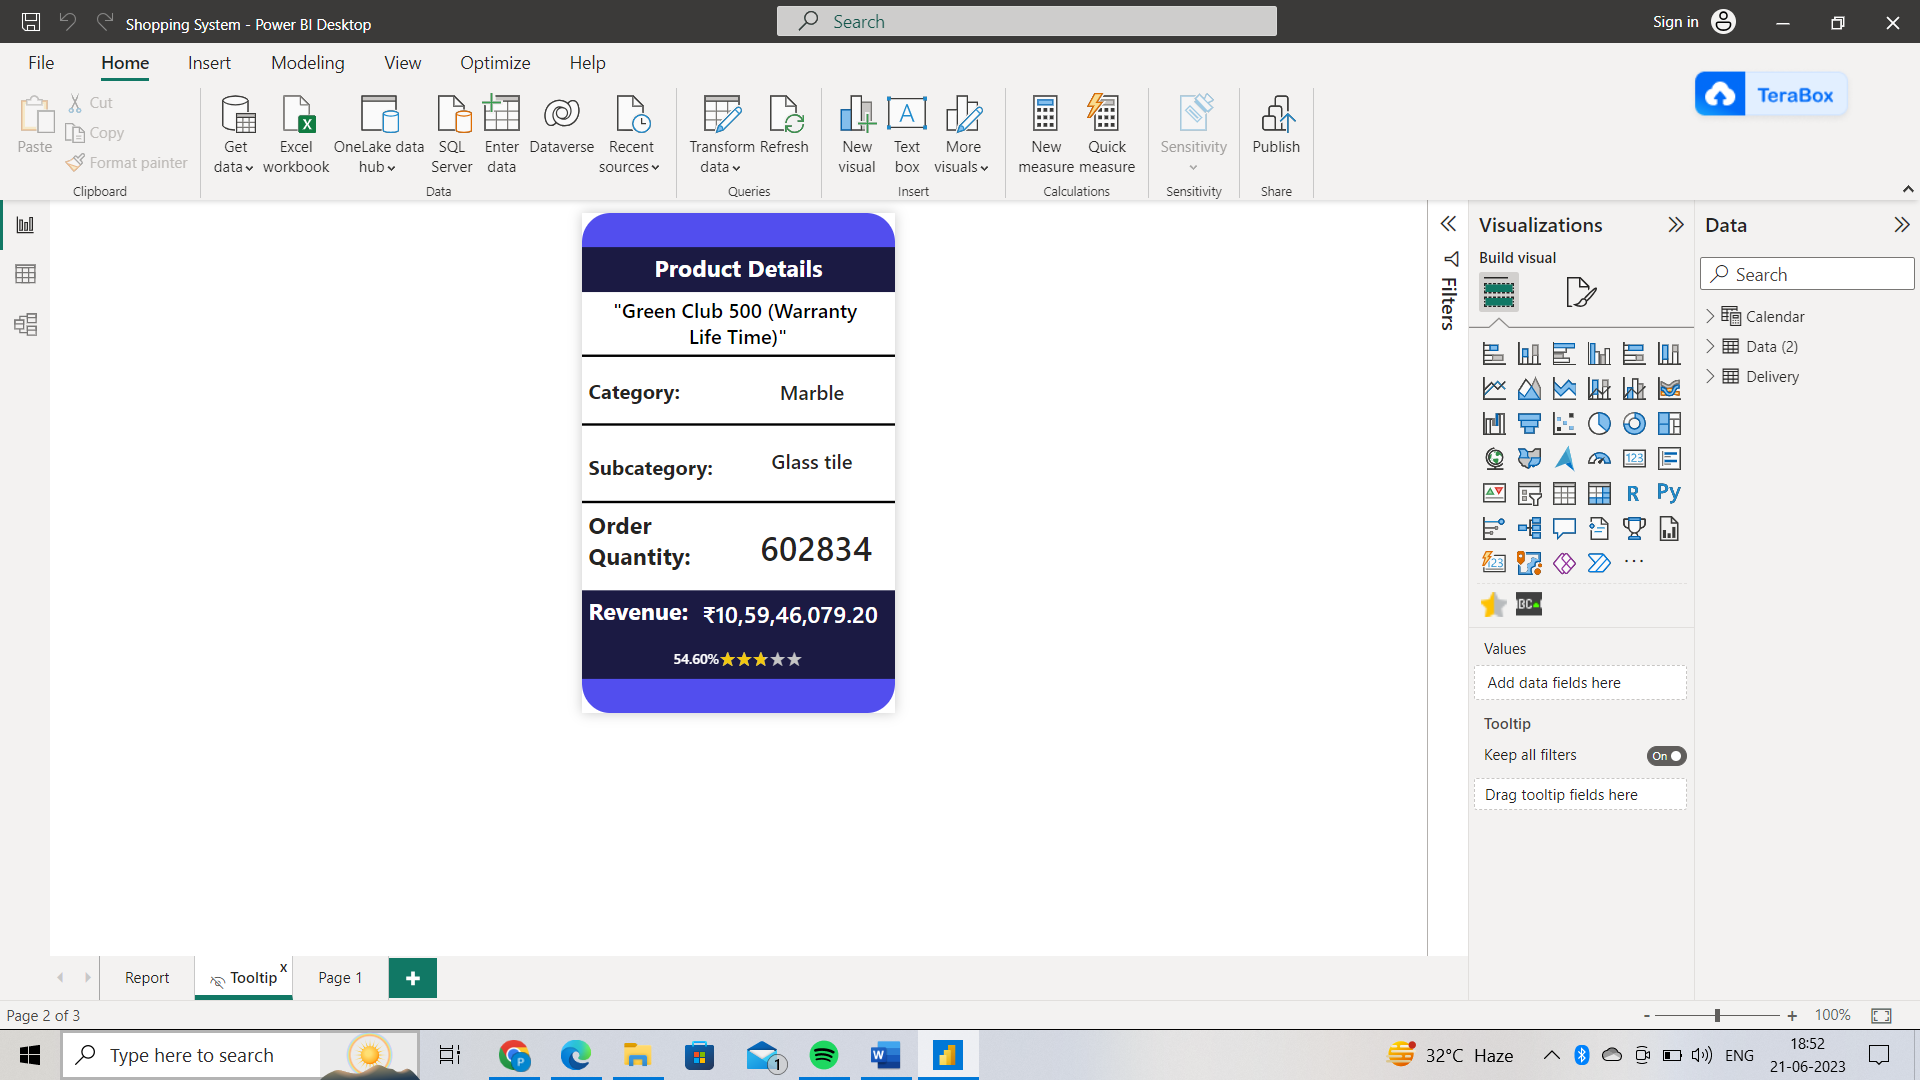

What the dashboard file says about the page in this screenshot:
{"tool":"powerbi","page":{"name":"Tooltip","canvas":[250,400],"ordinal":1},"visuals":[{"type":"card","fields":{"Values":["Min(Data (2).Product)"]},"box":[0,54,250,68],"z":0},{"type":"card","fields":{"Values":["Sum(Data (2).Order Quantity)"]},"box":[125,239,125,61],"z":1000},{"type":"textbox","box":[0,26,250,36],"z":2000},{"type":"card","fields":{"Values":["Sum(Data (2).Revenue)"]},"box":[83,298,167,49],"z":3000},{"type":"textbox","box":[0,301,126,41],"z":4000},{"type":"textbox","box":[0,232,125,64],"z":5000},{"type":"textbox","box":[0,187,118,41],"z":6000},{"type":"card","fields":{"Values":["Min(Data (2).SubCategory)"]},"box":[118,170,132,62],"z":7000},{"type":"textbox","box":[0,126,99,44],"z":8000},{"type":"card","fields":{"Values":["Min(Data (2).Product Category)"]},"box":[118,122,132,48],"z":9000},{"type":"shape","box":[0,107,251,15],"z":10000},{"type":"shape","box":[0,162,251,15],"z":11000},{"type":"shape","box":[0,224,251,15],"z":12000},{"type":"ratingsvisual001","fields":{"measure":["Data (2).Avg. Star Ratings"]},"box":[0,340,250,36],"z":13000}]}

Visuals, with their boxes on the page's 250x400 design canvas (x1, y1, x2, y2). These are canvas units, not pixel positions in the 1920x1080 screenshot, which may show the page scaled, cropped or inside an application window:
card - Min(Data (2).Product): pyautogui.locateOnScreen(0, 54, 250, 122)
card - Sum(Data (2).Order Quantity): pyautogui.locateOnScreen(125, 239, 250, 300)
textbox: pyautogui.locateOnScreen(0, 26, 250, 62)
card - Sum(Data (2).Revenue): pyautogui.locateOnScreen(83, 298, 250, 347)
textbox: pyautogui.locateOnScreen(0, 301, 126, 342)
textbox: pyautogui.locateOnScreen(0, 232, 125, 296)
textbox: pyautogui.locateOnScreen(0, 187, 118, 228)
card - Min(Data (2).SubCategory): pyautogui.locateOnScreen(118, 170, 250, 232)
textbox: pyautogui.locateOnScreen(0, 126, 99, 170)
card - Min(Data (2).Product Category): pyautogui.locateOnScreen(118, 122, 250, 170)
shape: pyautogui.locateOnScreen(0, 107, 251, 122)
shape: pyautogui.locateOnScreen(0, 162, 251, 177)
shape: pyautogui.locateOnScreen(0, 224, 251, 239)
ratingsvisual001 - Data (2).Avg. Star Ratings: pyautogui.locateOnScreen(0, 340, 250, 376)
